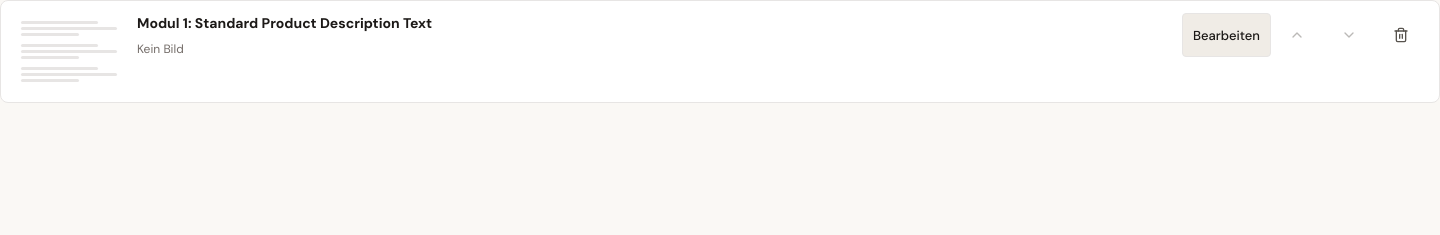
Test: AplusModuleCard › shows the product description limit
Click the button with test id "aplus-module-0-toggle".
click(1226, 35)  # box left=1182, top=13, right=1271, bottom=57
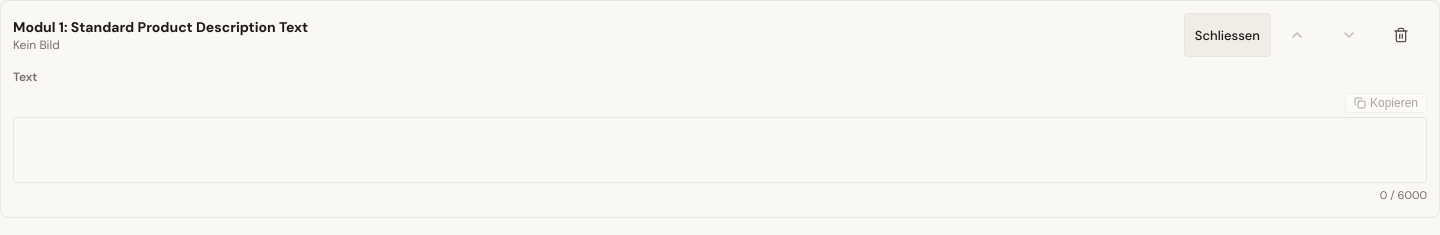
Check: the text with test id "aplus-module-0-field-body-char-count" shows "/ 6000", box left=1380, top=188, right=1427, bottom=202
